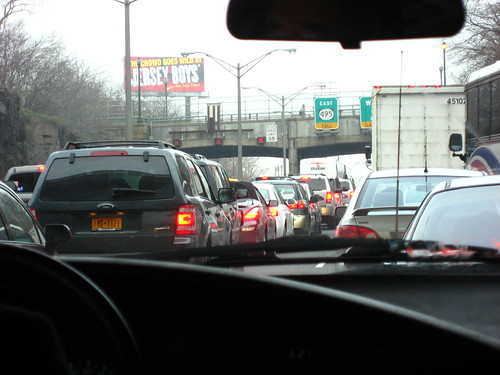bridge: (109, 99, 379, 158)
car: (37, 148, 216, 253), (342, 161, 488, 249), (222, 177, 276, 248)
sign: (123, 53, 207, 96), (311, 95, 346, 134)
sky: (67, 1, 500, 72)
truck: (378, 80, 466, 166)
vegetation: (1, 1, 114, 109)
